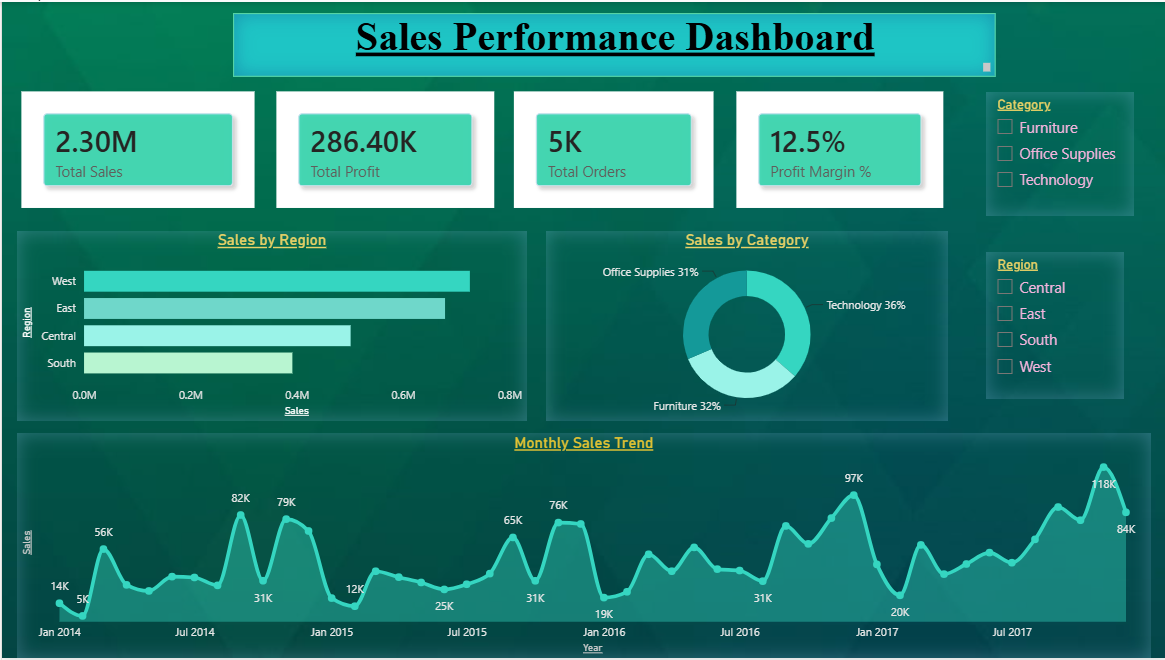

The page's visual inventory and layout, read from the dashboard file:
{"tool":"powerbi","page":{"name":"Page 1","canvas":[1280,720],"ordinal":0},"visuals":[{"type":"cardVisual","fields":{"Data":["Sum(Sample - Superstore.Sales)"]},"box":[16.5,93.3,266.2,138.6],"z":0},{"type":"cardVisual","fields":{"Data":["Sum(Sample - Superstore.Profit)"]},"box":[296.4,93.3,249.7,138.6],"z":1000},{"type":"cardVisual","fields":{"Data":["Sample - Superstore.Total Orders"]},"box":[557.1,93.3,229.2,138.6],"z":2000},{"type":"cardVisual","fields":{"Data":["Sample - Superstore.Profit Margin %"]},"box":[801.4,93.3,237.4,138.6],"z":3000},{"type":"clusteredBarChart","title":"Sales by Region","fields":{"Y":["Sum(Sample - Superstore.Sales)"],"Category":["Sample - Superstore.Region"]},"box":[16.5,251.1,559.9,208.6],"z":4000},{"type":"donutChart","title":"Sales by Category","fields":{"Category":["Sample - Superstore.Category"],"Y":["Sum(Sample - Superstore.Sales)"]},"box":[596.9,251.1,441.9,208.6],"z":5000},{"type":"slicer","fields":{"Values":["Sample - Superstore.Category"]},"box":[1079.9,98.8,163.3,135.8],"z":6000},{"type":"slicer","fields":{"Values":["Sample - Superstore.Region"]},"box":[1079.9,274.4,152.3,161.9],"z":7000},{"type":"lineChart","title":"Monthly Sales Trend","fields":{"Y":["Sum(Sample - Superstore.Sales)"],"Category":["Sample - Superstore.Order Date.Variation.Date Hierarchy.Year","Sample - Superstore.Order Date.Variation.Date Hierarchy.Month"]},"box":[16.5,473.4,1244.6,247],"z":8000},{"type":"textbox","title":"Sales Performance Dashboard","box":[253.9,12.3,837.1,70],"z":8001}]}

Visuals, with their boxes in screenshot pixels (x1, y1, x2, y2), scaled from the page's 1280x720 canvas onto the 1165x660 screenshot:
cardVisual - Sum(Sample - Superstore.Sales): <region>15, 86, 257, 213</region>
cardVisual - Sum(Sample - Superstore.Profit): <region>270, 86, 497, 213</region>
cardVisual - Sample - Superstore.Total Orders: <region>507, 86, 716, 213</region>
cardVisual - Sample - Superstore.Profit Margin %: <region>729, 86, 945, 213</region>
"Sales by Region" clusteredBarChart: <region>15, 230, 525, 421</region>
"Sales by Category" donutChart: <region>543, 230, 945, 421</region>
slicer - Sample - Superstore.Category: <region>983, 91, 1132, 215</region>
slicer - Sample - Superstore.Region: <region>983, 252, 1121, 400</region>
"Monthly Sales Trend" lineChart: <region>15, 434, 1148, 659</region>
"Sales Performance Dashboard" textbox: <region>231, 11, 993, 75</region>
